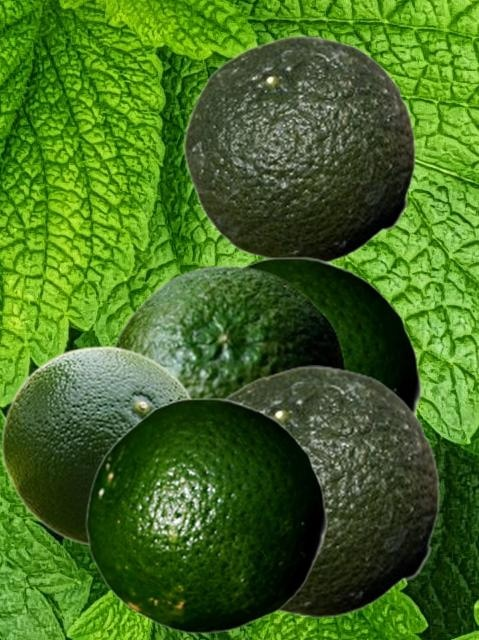calamansi: (85, 397, 327, 633), (222, 365, 439, 617), (183, 35, 415, 263), (0, 345, 194, 545), (112, 264, 345, 397), (242, 256, 421, 415)
